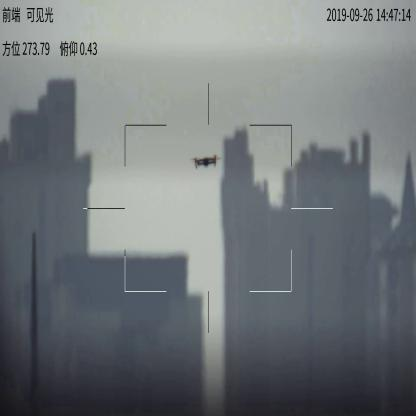uav: (189, 154, 220, 173)
